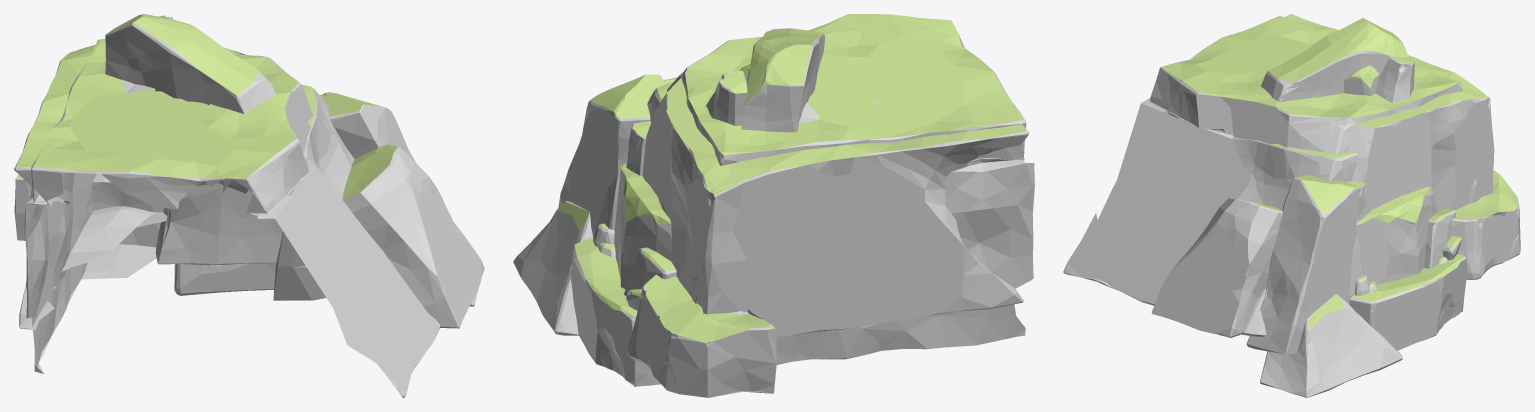
Rendered from rock1-1.fbx.
The picture shows the model from 3 angles, left to right: view 1: azimuth 30°, elevation 25°; view 2: azimuth 150°, elevation 25°; view 3: azimuth 270°, elevation 25°; orthographic projection. The views are drawn at different scales.
Visible parts, largest first — view 1: 立方体.031; view 2: 立方体.031; view 3: 立方体.031.
Boxes of the visible parts, bbox=[...] form: 立方体.031: bbox=[14, 14, 484, 397]; 立方体.031: bbox=[513, 14, 1034, 397]; 立方体.031: bbox=[1063, 14, 1520, 397].
Size of the model in its own units: 919 by 575 by 925.
